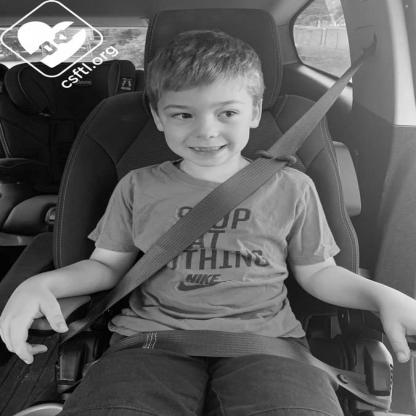seatbelt: (110, 13, 328, 362)
